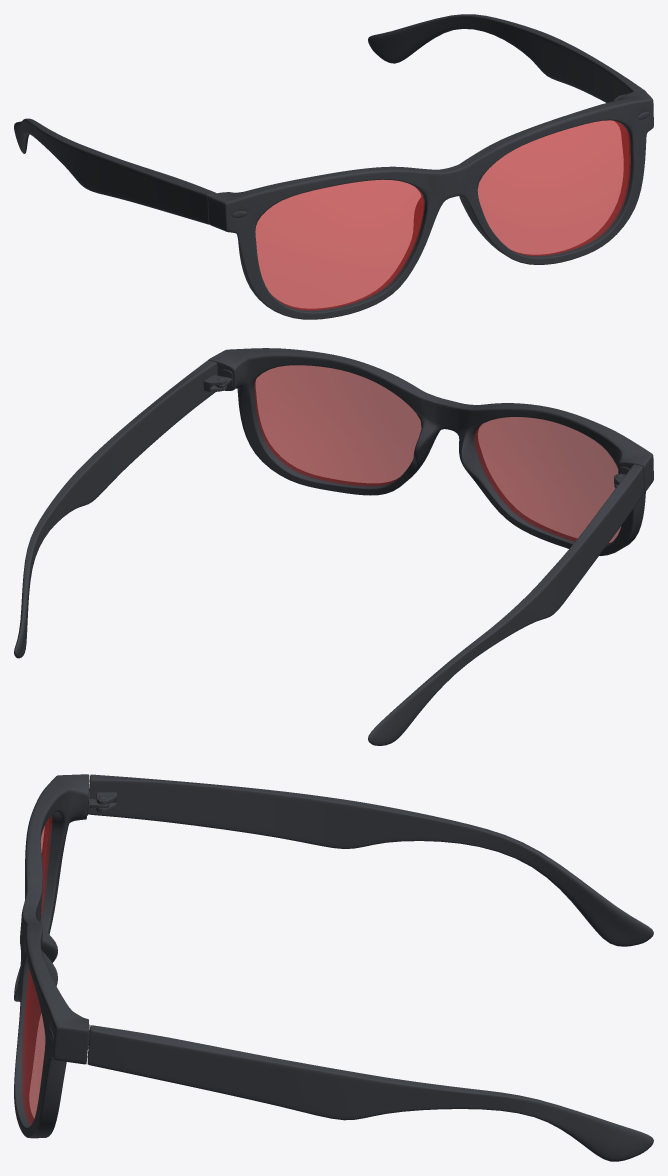
File: model_13_black_red_lens.glb
3 views of the same model, one above another, from view 1: azimuth 30°, elevation 25°; view 2: azimuth 150°, elevation 25°; view 3: azimuth 270°, elevation 25° (orthographic). The views are drawn at different scales.
Parts seen in each view (by area): view 1: model_13_asli; view 2: model_13_asli; view 3: model_13_asli.
Boxes of the visible parts, x1,y1,x2,y2 form: model_13_asli: (14, 14, 653, 319); model_13_asli: (14, 348, 653, 745); model_13_asli: (14, 774, 653, 1161).
Size of the model in its own units: 12.39 by 3.47 by 12.12.
